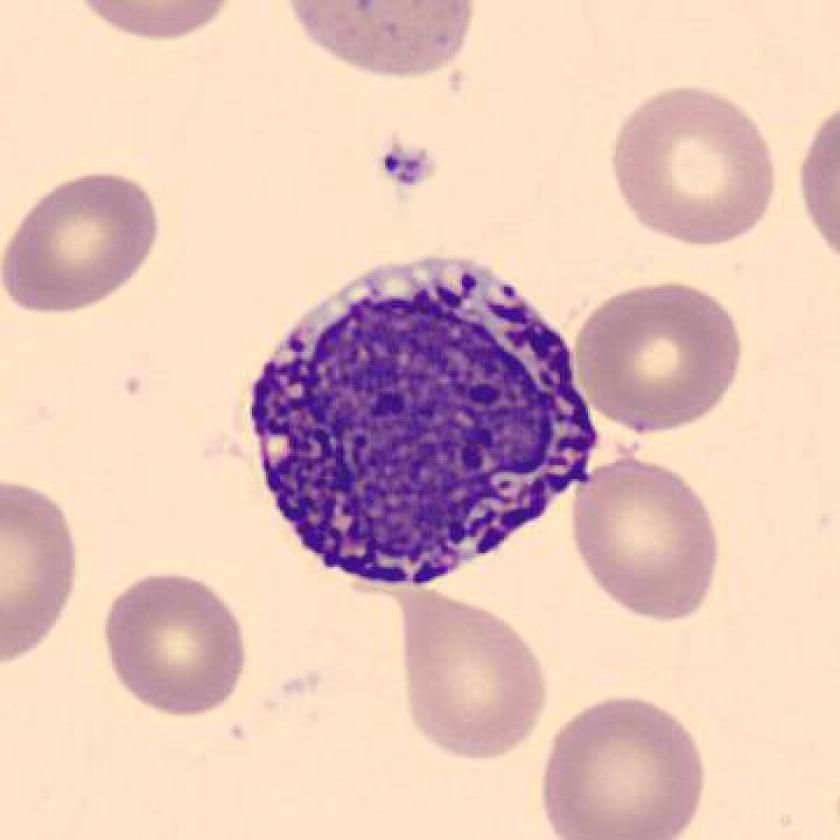basophil: (249, 256, 592, 589)
